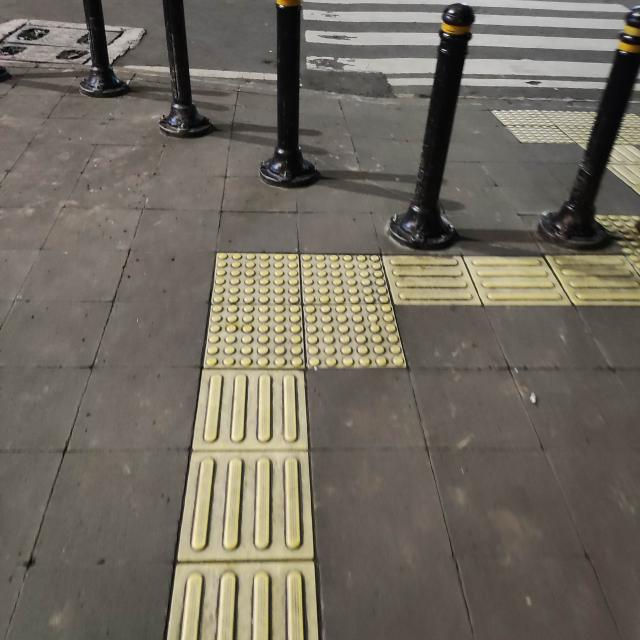kanan: (151, 210, 602, 400)
